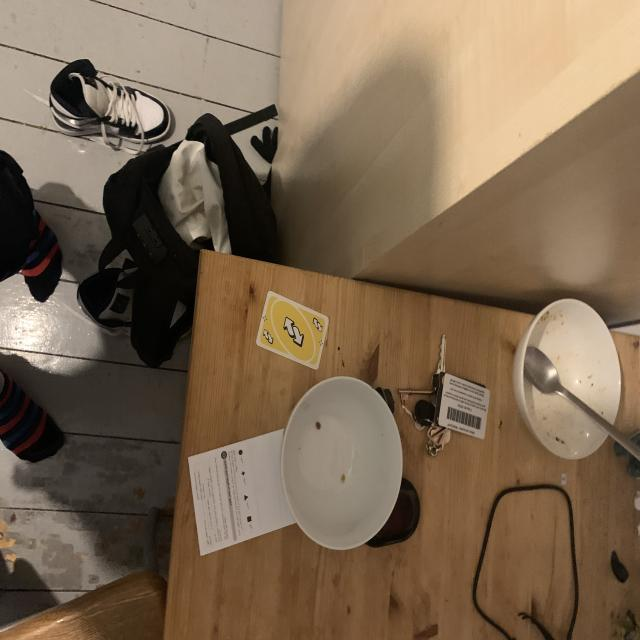lyellowrevers-20: (263, 328, 274, 346)
